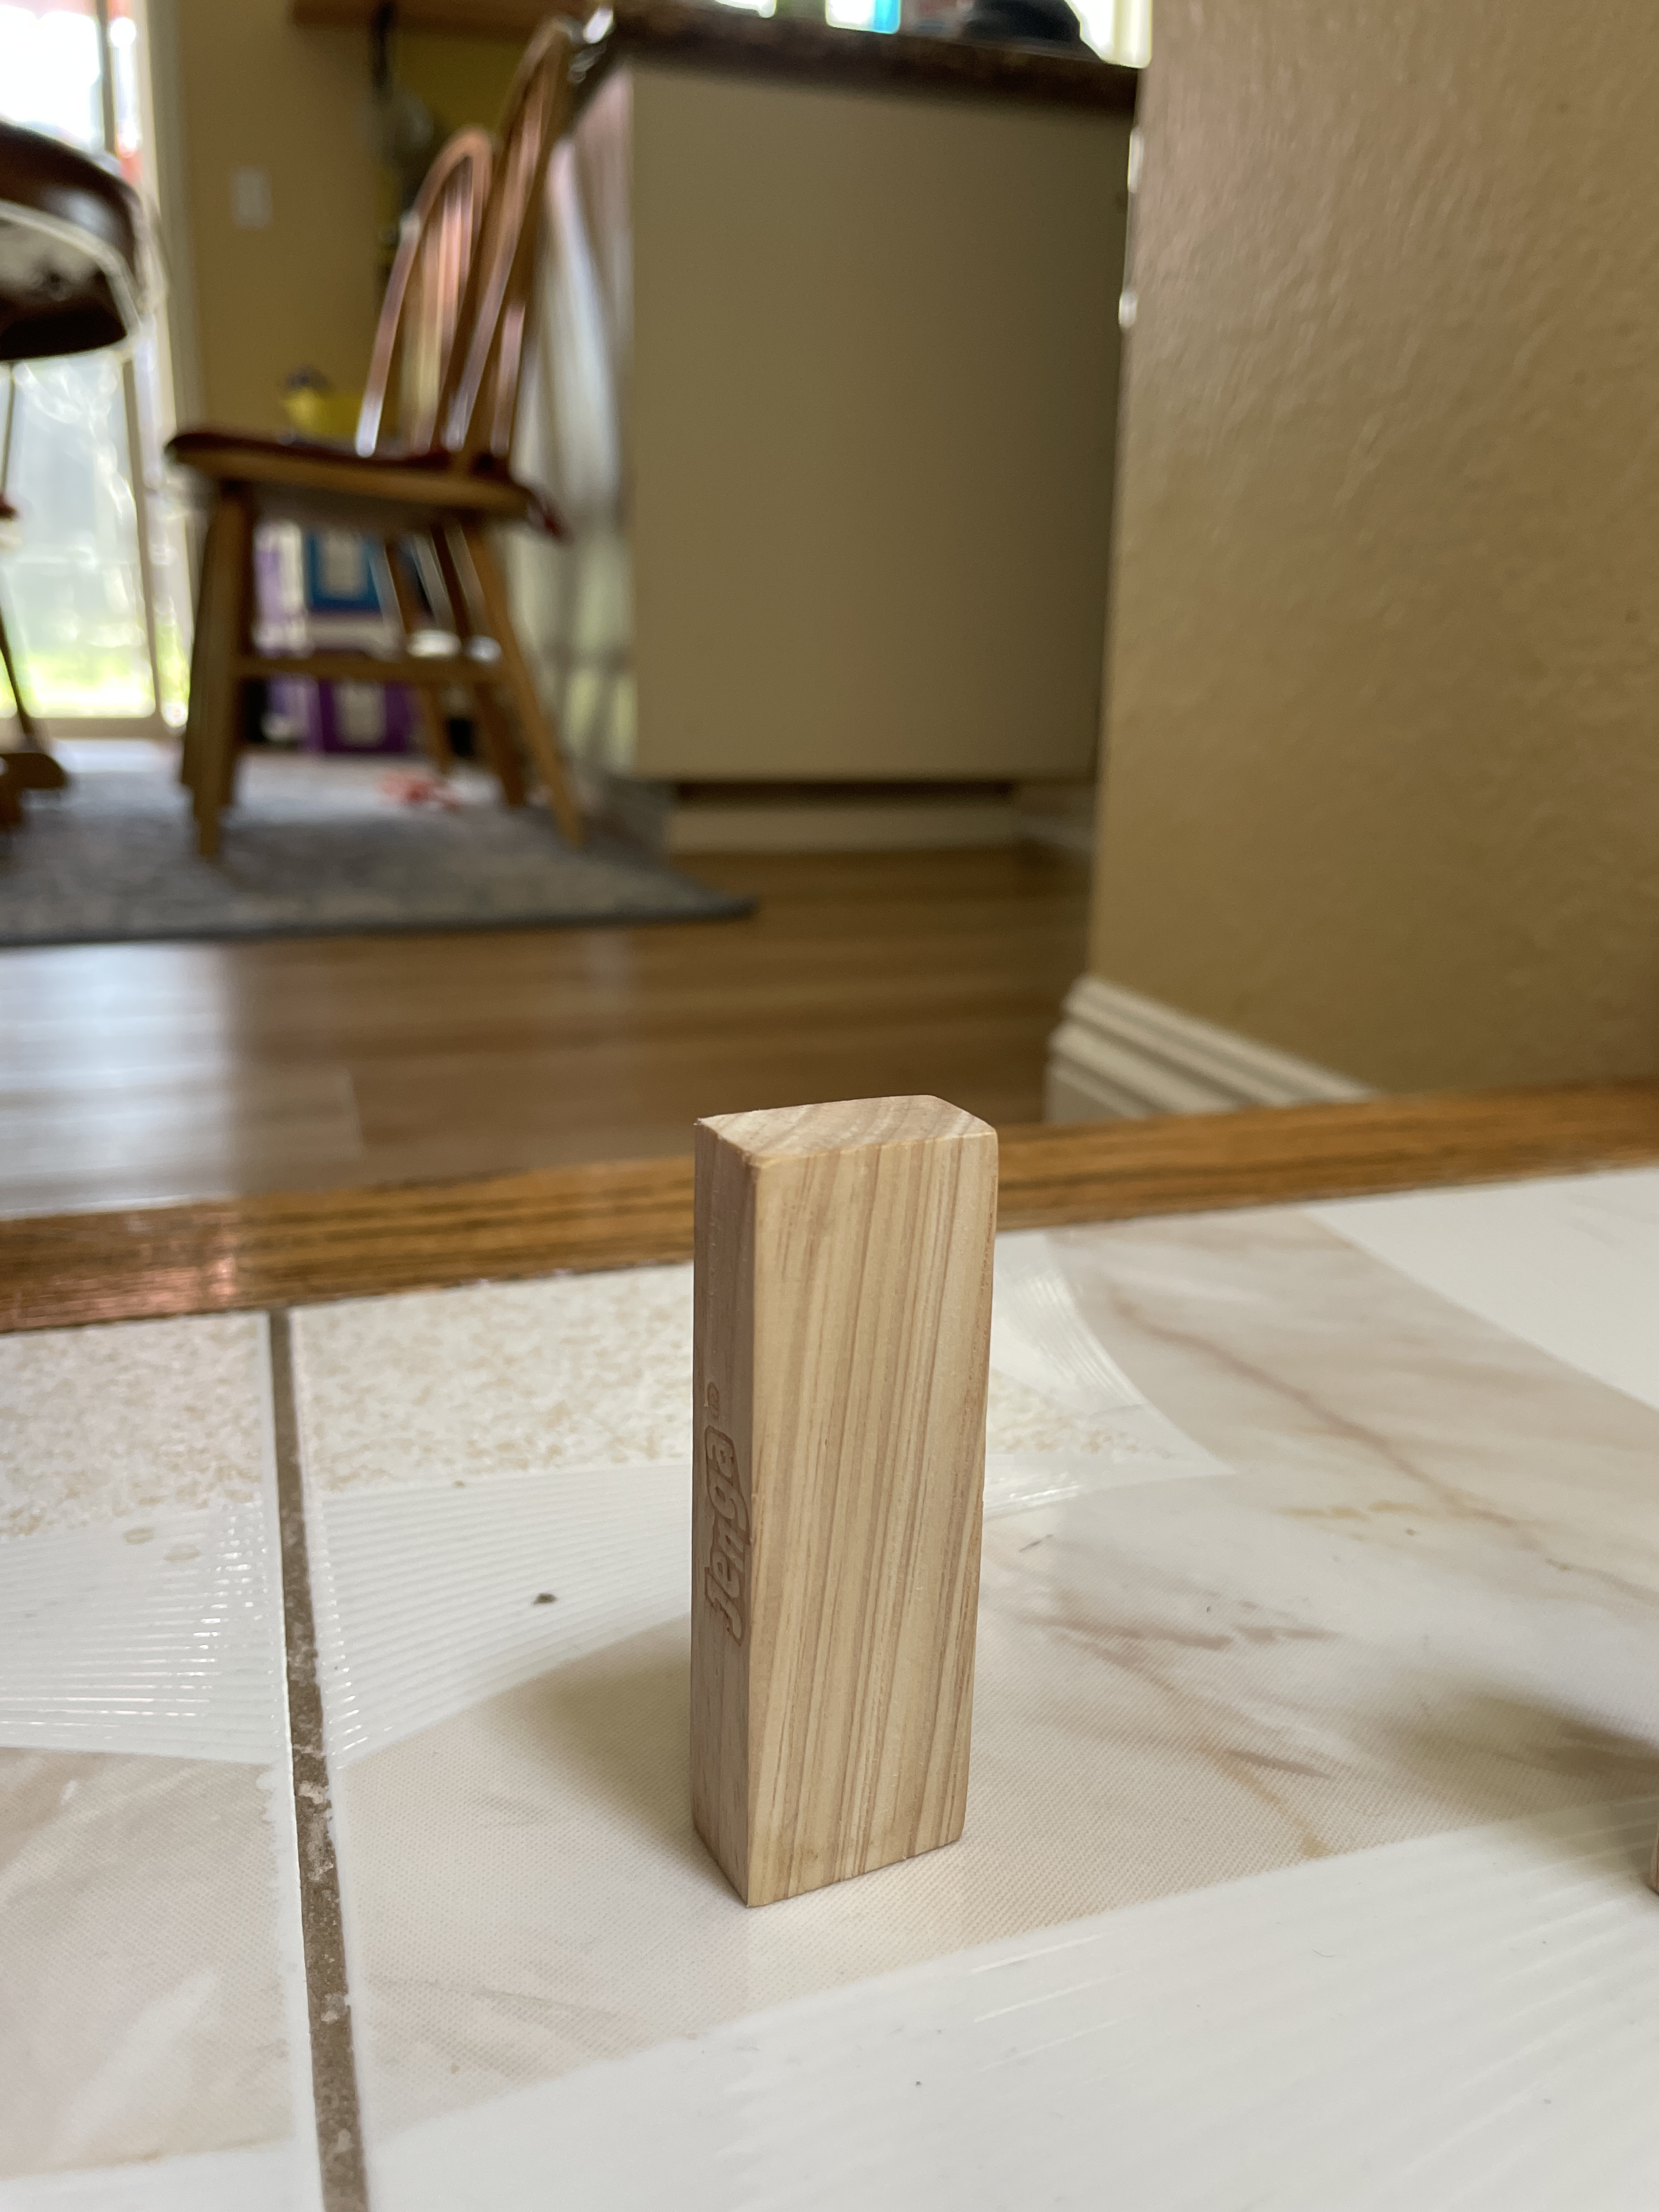jenga: (674, 1122, 978, 1871)
